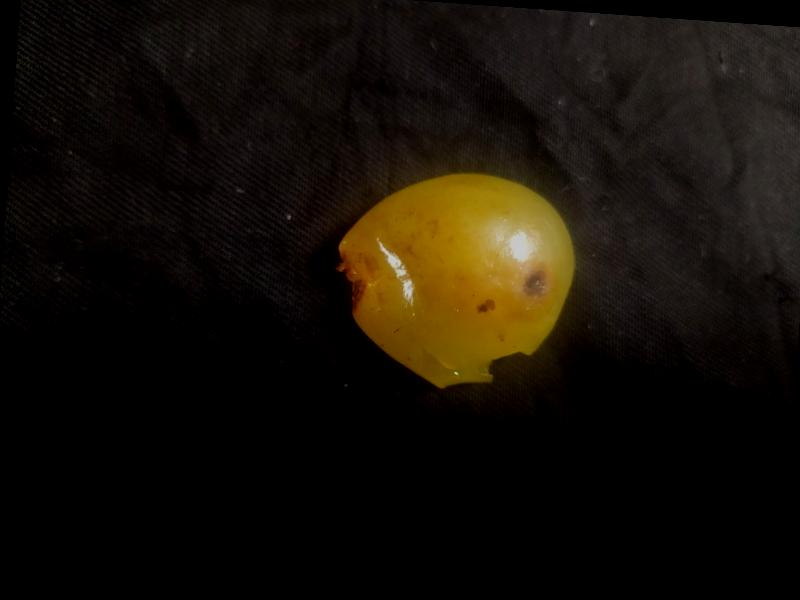Grape Overripe: (326, 160, 584, 400)
